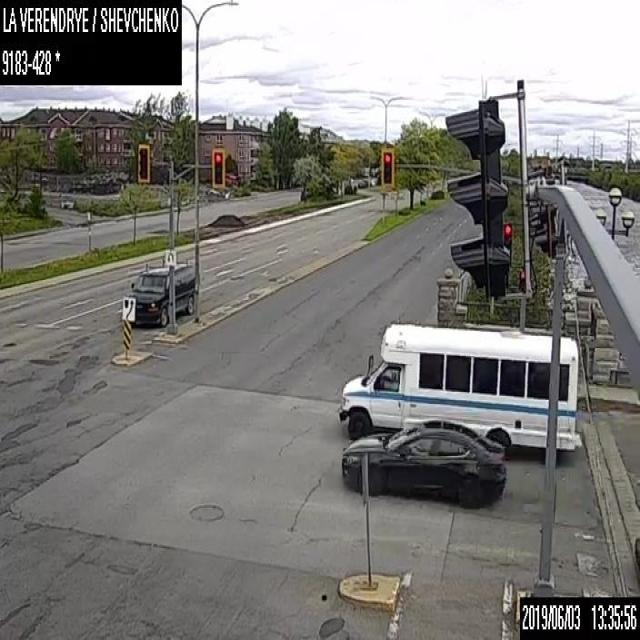bus: (338, 318, 580, 456)
vehicle: (341, 418, 506, 507), (122, 261, 194, 326), (357, 178, 371, 187)
